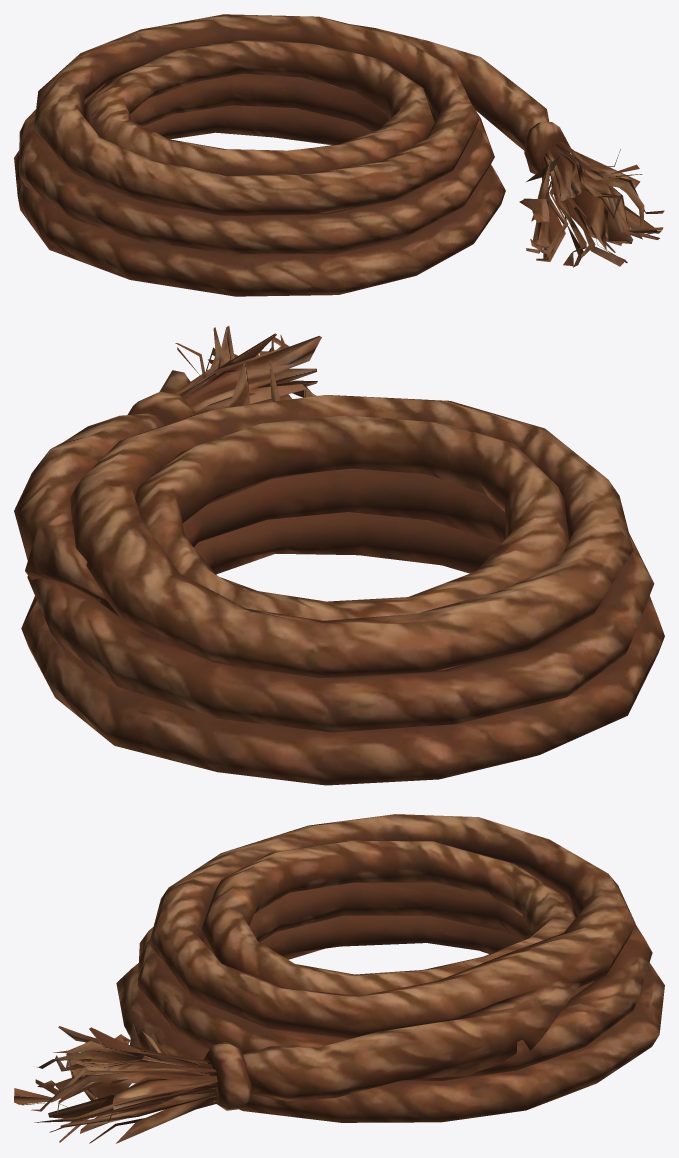
The model's file is rope.glb.
The picture shows the model from 3 angles, top to bottom: view 1: azimuth 30°, elevation 25°; view 2: azimuth 150°, elevation 25°; view 3: azimuth 270°, elevation 25°; orthographic projection. The views are drawn at different scales.
Parts seen in each view (by area): view 1: geometry_0; view 2: geometry_0; view 3: geometry_0.
Part boxes in pixels (<box>): geometry_0: <box>14,14,664,296</box>; geometry_0: <box>14,326,664,785</box>; geometry_0: <box>14,814,664,1143</box>.
Size of the model in its own units: 0.3094 by 0.0764 by 0.34.
1 material, 1 textured.
